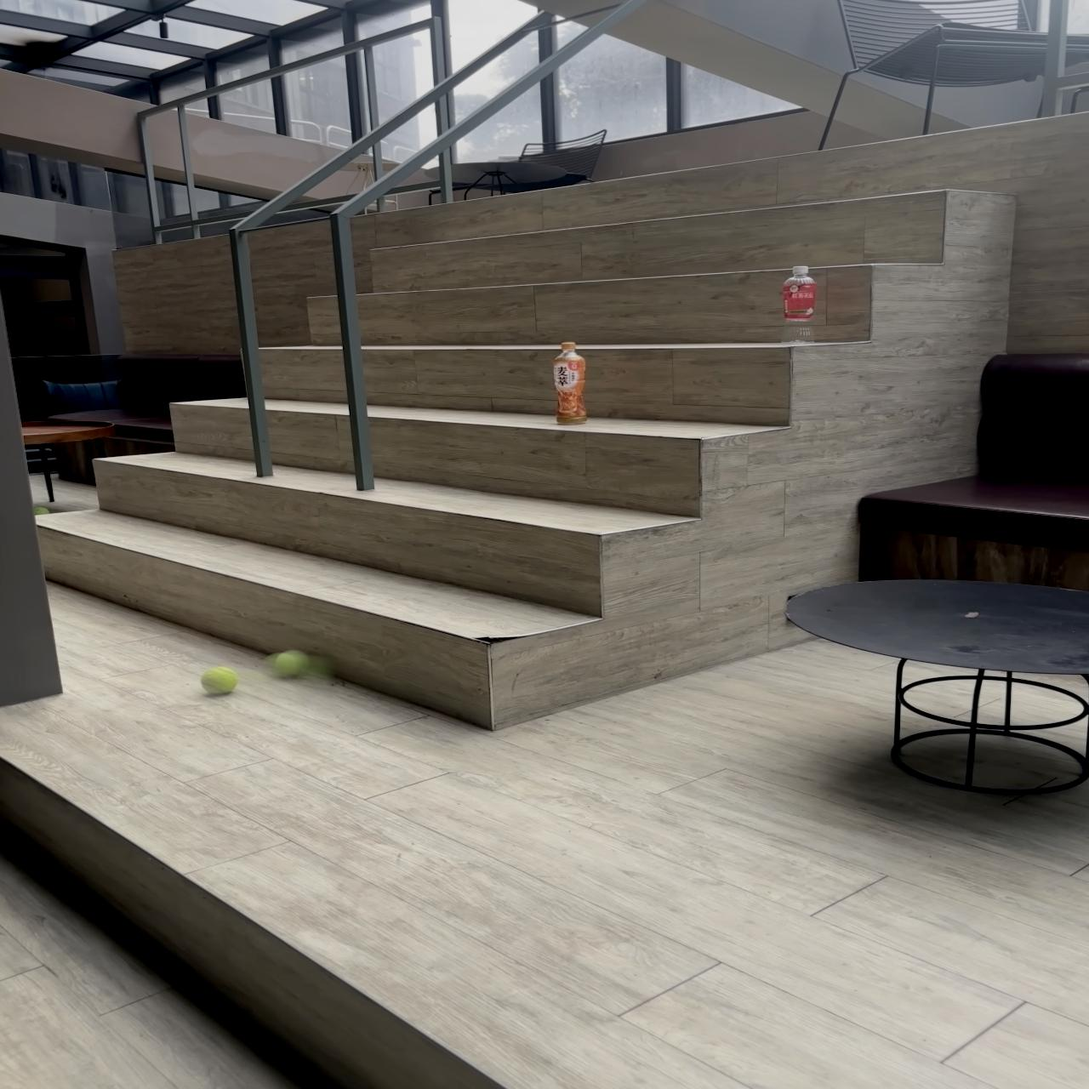plastic-bottle: (553, 342, 587, 424), (784, 265, 817, 342)
tennisball: (264, 649, 335, 680), (201, 667, 238, 694), (34, 506, 50, 516)
